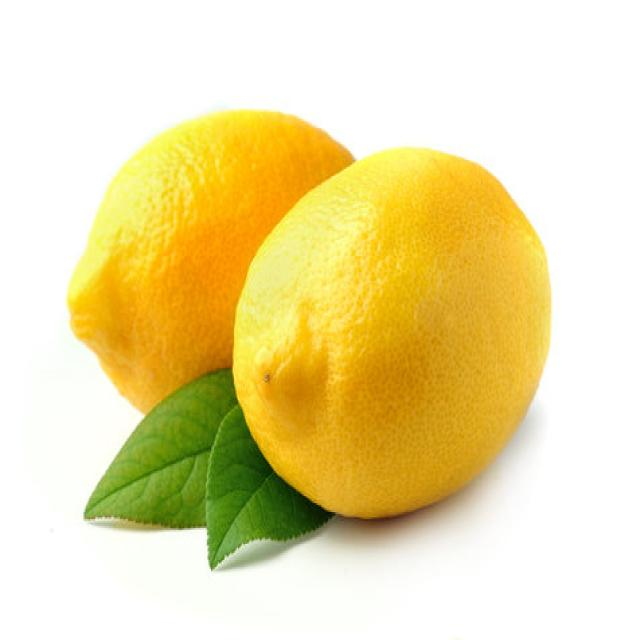Lemon: (232, 144, 552, 519), (66, 105, 355, 414)
